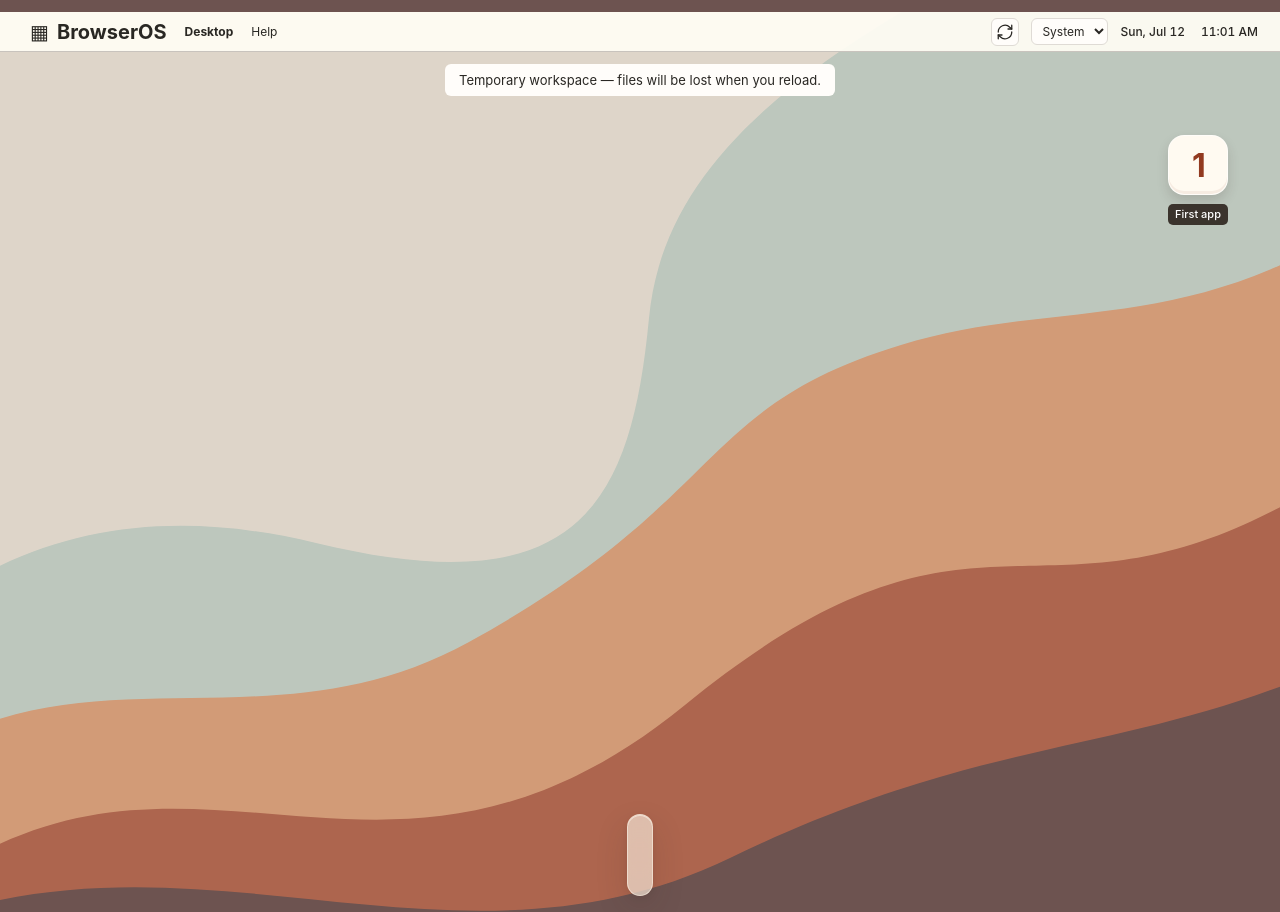
it: Desktop Shell › keeps the shell usable after a loader failure
Click the button with aria-label "Open First app" at (1198,180), box x1=1142 y1=124 x2=1254 y2=236
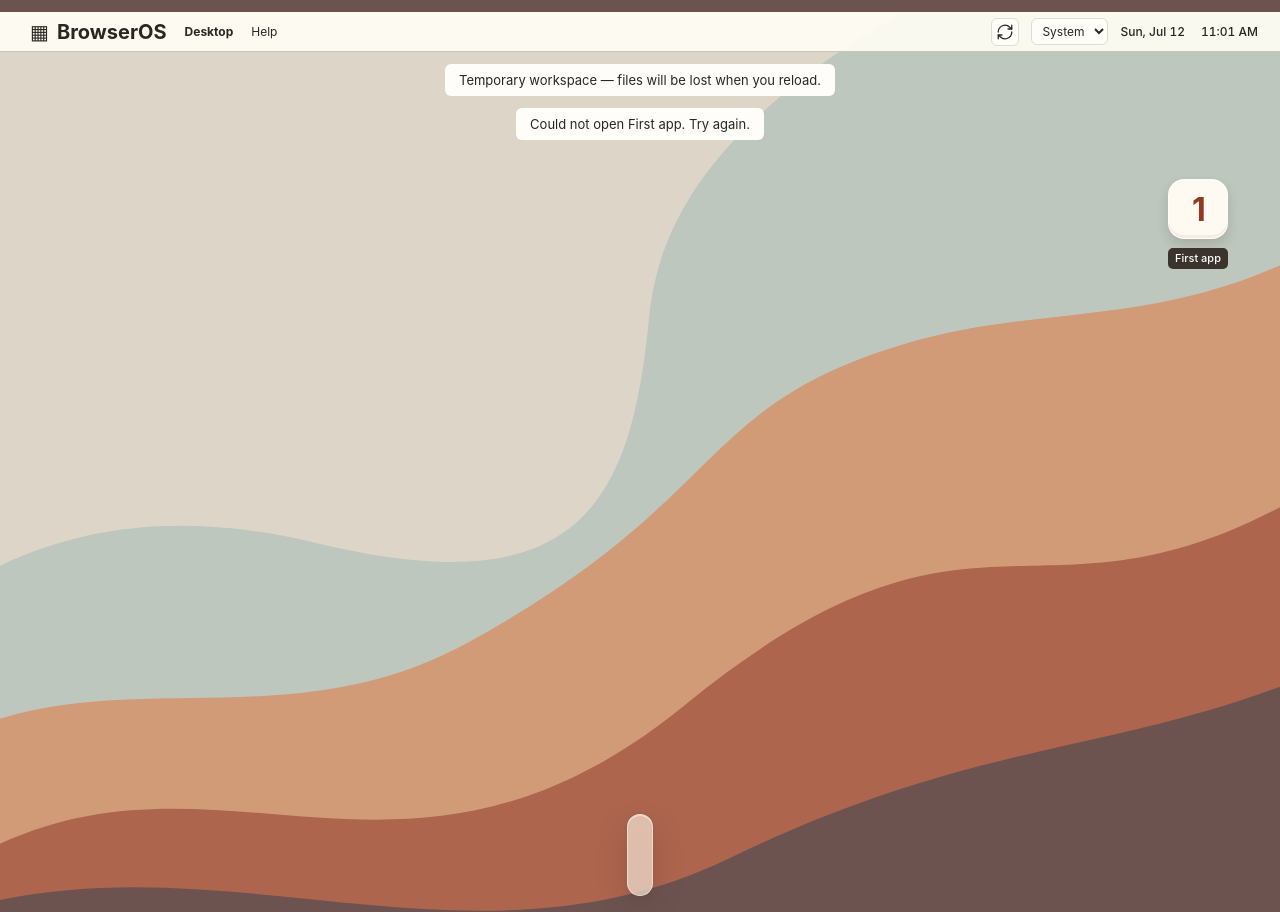
Now the message "Could not open First app. Try again." is shown, box x1=516 y1=108 x2=764 y2=140
Click the button with aria-label "Open First app" at (1198,224), box x1=1142 y1=168 x2=1254 y2=280
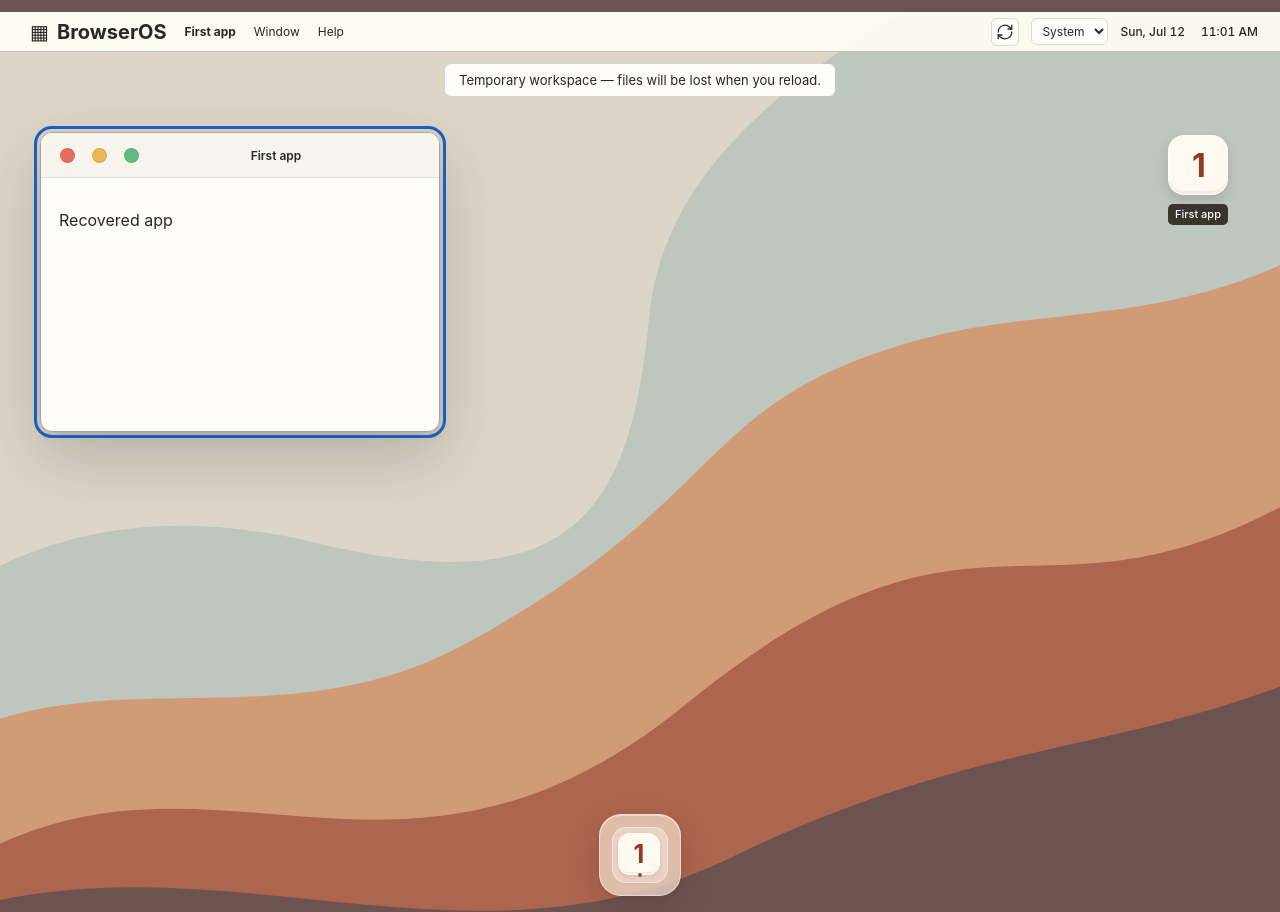
Now the text "Recovered app" is shown, box x1=59 y1=210 x2=173 y2=230
Now the message "Could not open First app. Try again." is gone
